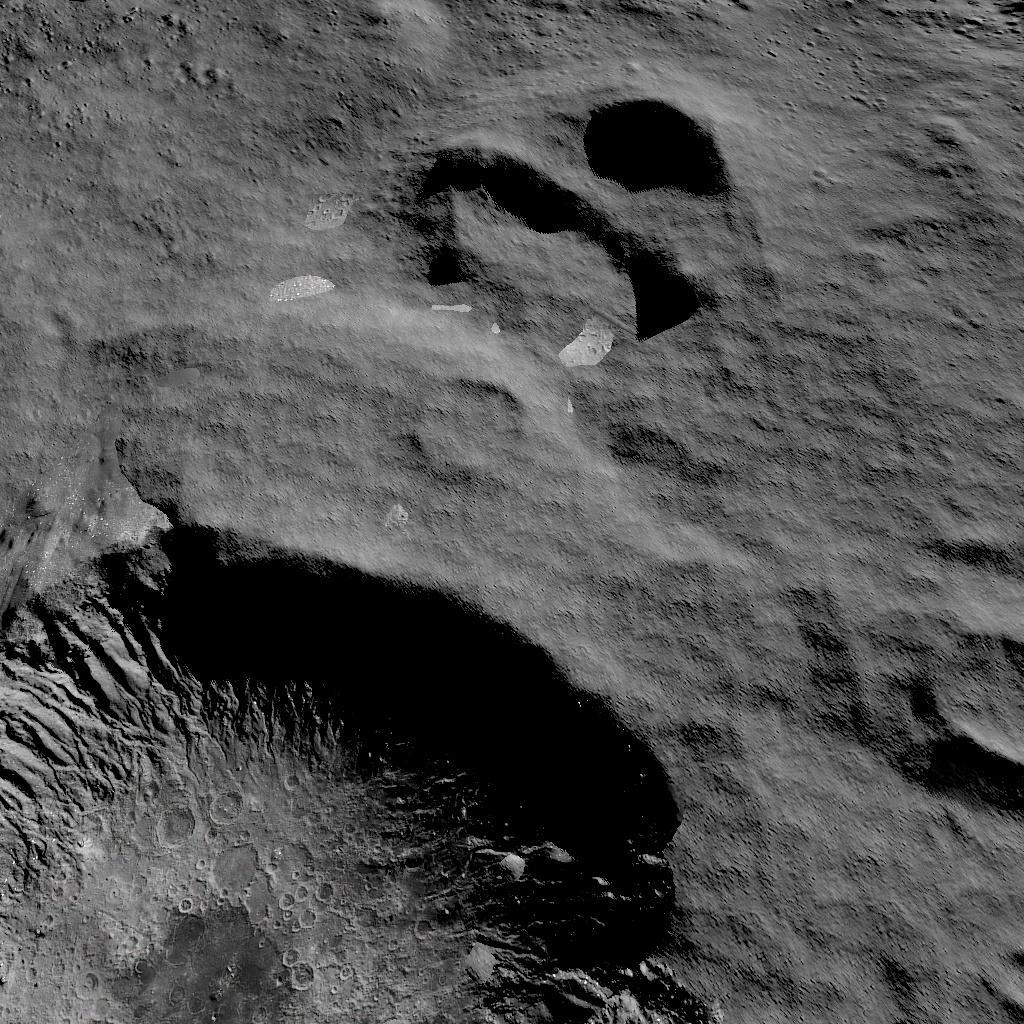Crater: (0, 508, 773, 1024), (382, 64, 757, 340), (903, 608, 1024, 788), (406, 366, 542, 495)
Plan surface: (0, 0, 346, 495), (777, 4, 1024, 462)
